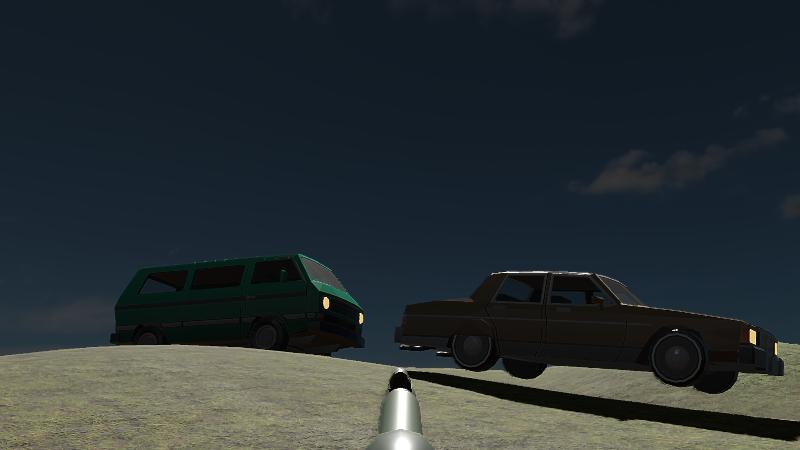car: (393, 269, 783, 391), (111, 253, 365, 353)
